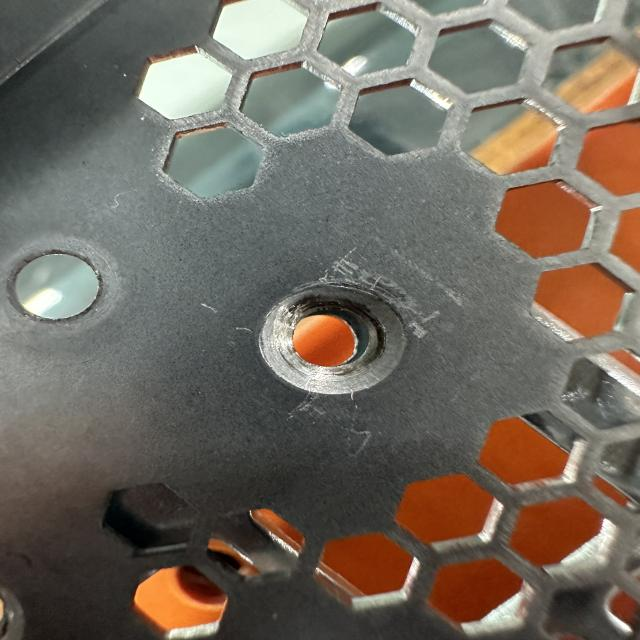Missing screw: (239, 274, 427, 406)
